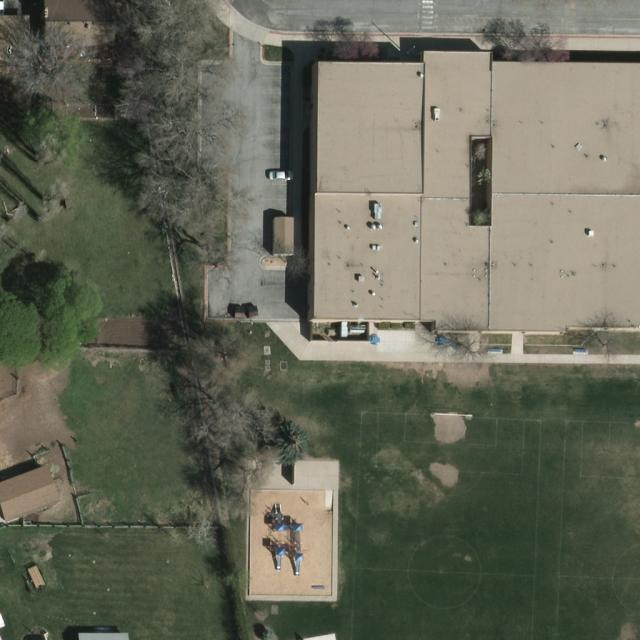vehicle: (269, 170, 295, 180)
